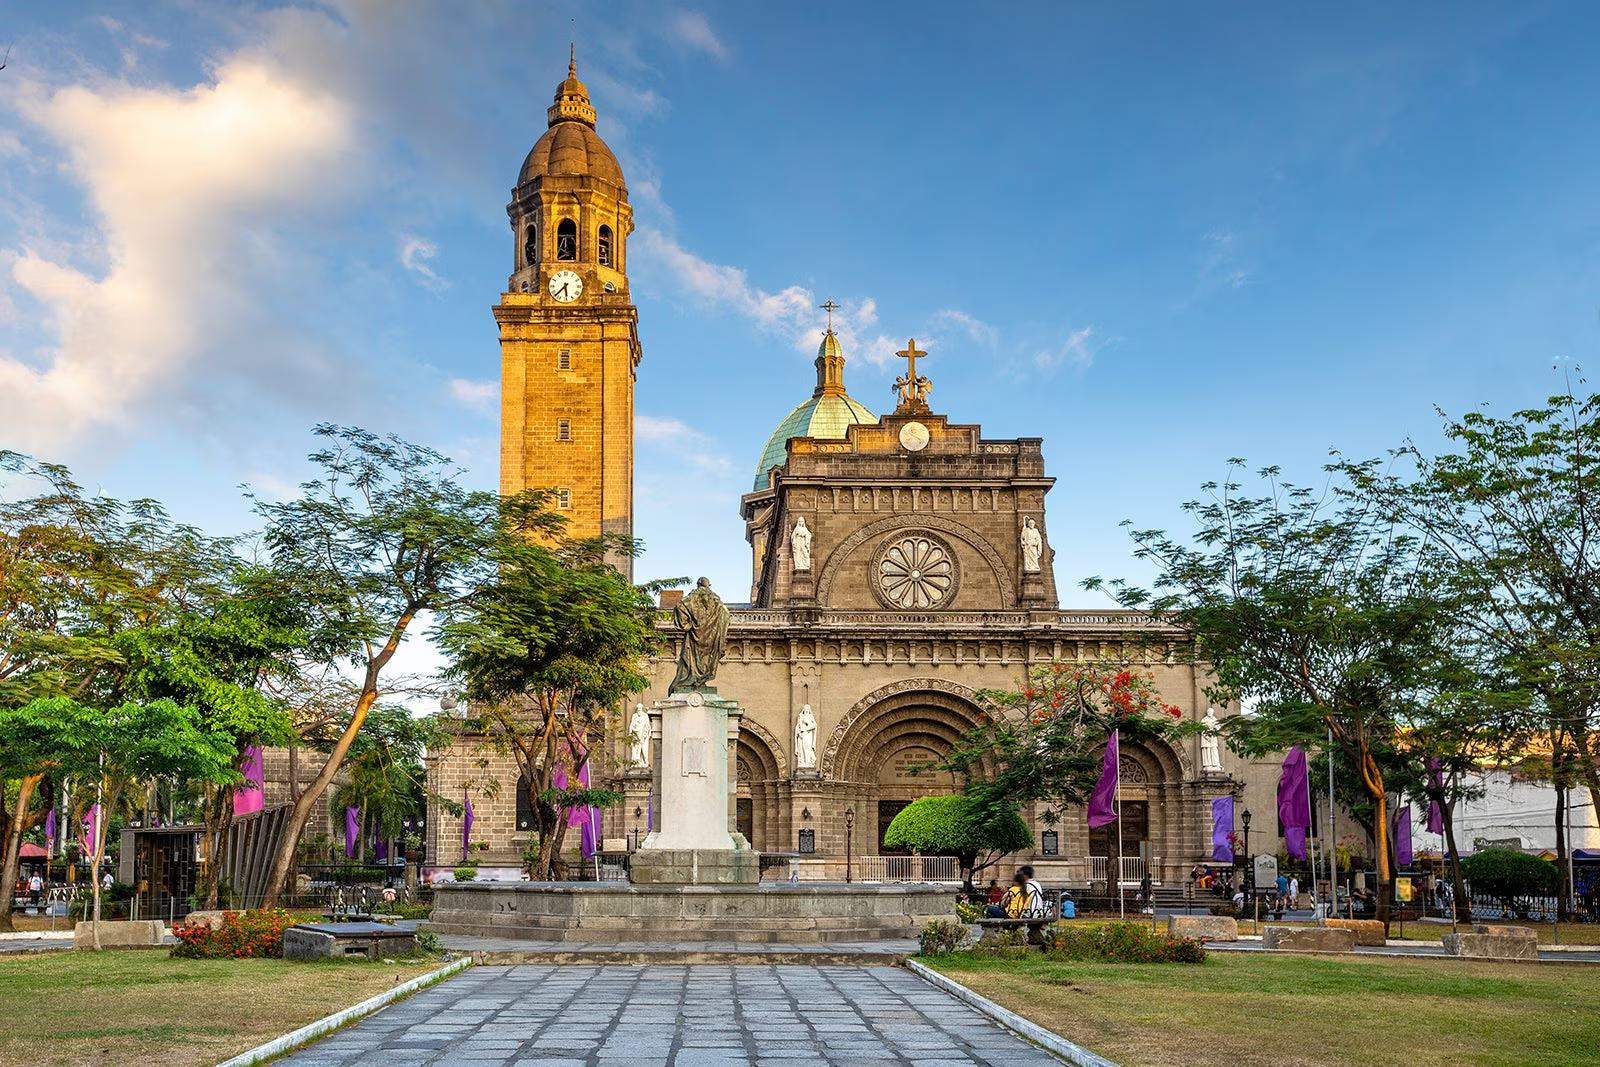manila_cathedral_church_intramuros_manila: (414, 29, 1244, 913)
